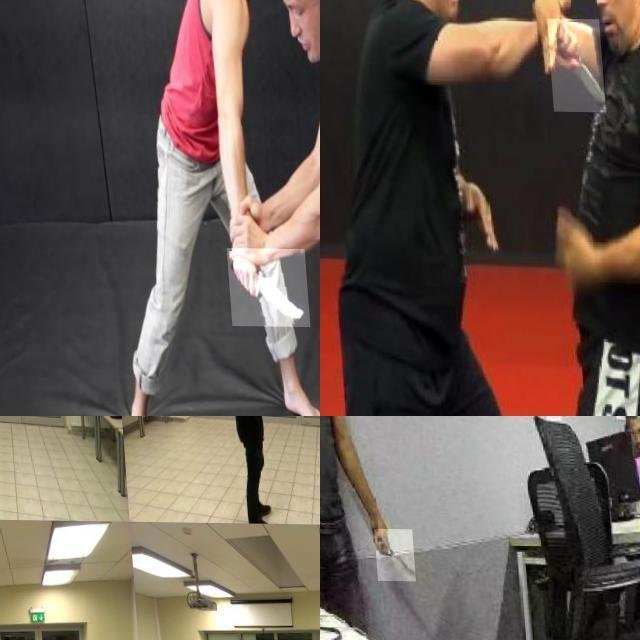-: (221, 247, 304, 326), (544, 18, 602, 111), (367, 528, 408, 580)
gun-knife-thesis - v11 Yolov5 augmented: (286, 416, 307, 432), (0, 416, 9, 433)
